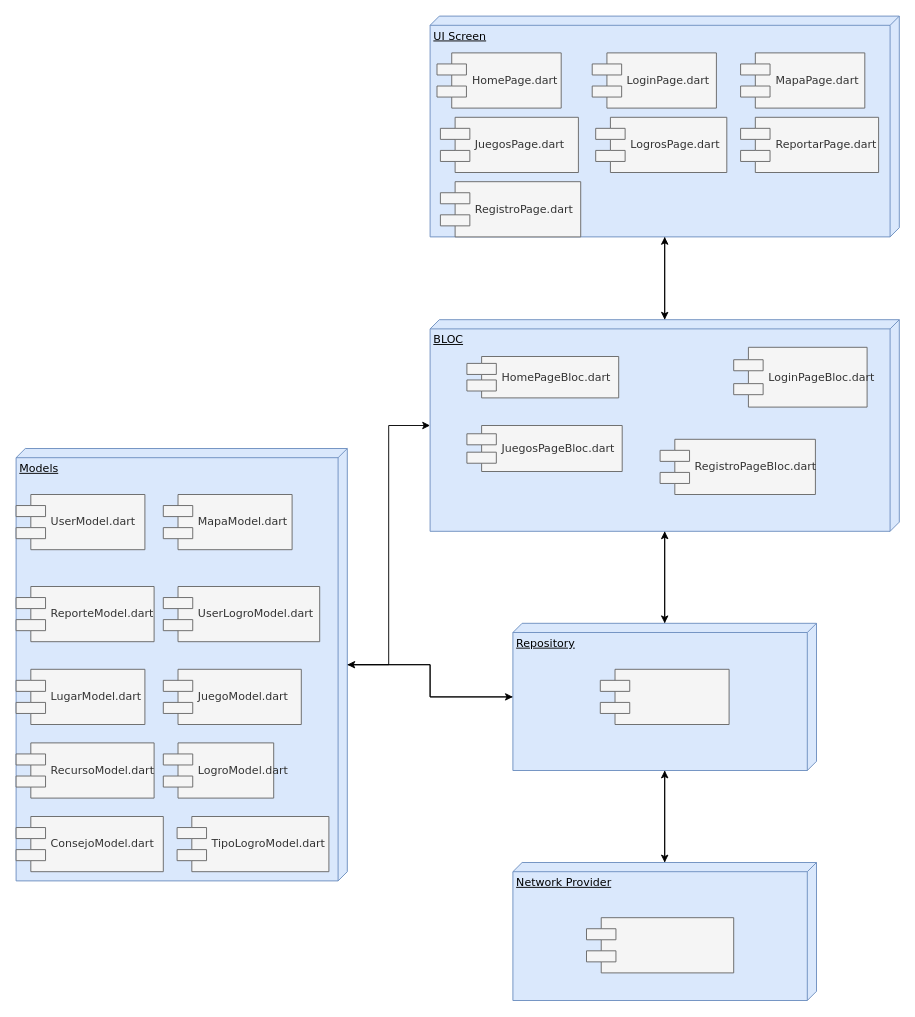
Image size: 915x1017. Some labels were removed from this diagram. The centre of each missing label's shape, as x and y in pixels:
"API_provider.dart" goes at pixel 660 945.
"repository.dart" goes at pixel 664 696.
